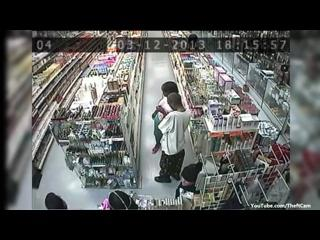Normal: (153, 93, 191, 183), (151, 81, 179, 154)
